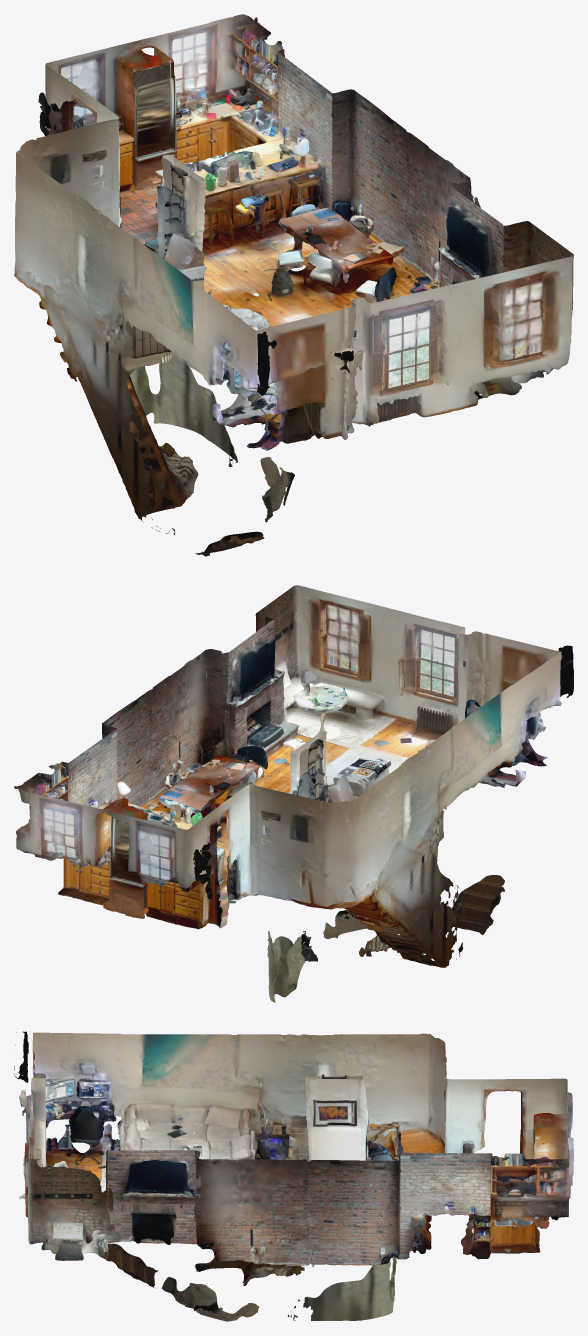
The model's file is room-realistic.glb.
3 views of the same model, one above another, from view 1: azimuth 30°, elevation 25°; view 2: azimuth 150°, elevation 25°; view 3: azimuth 270°, elevation 25° (orthographic). The views are drawn at different scales.
Visible parts, largest first — view 1: Interior__Material_4, Interior__Material_5, Interior__Material_6, Interior__Material_1, Interior__Material_3, Interior__Material_2, SouthWall__Material_1, LowerLevel__Material_5, EastWall__Material_4, LowerLevel__Material_6, WestWall__Material_4, WestWall__Material_6 (+18 smaller); view 2: Interior__Material_4, Interior__Material_5, Interior__Material_6, Interior__Material_1, Interior__Material_3, Interior__Material_2, WestWall__Material_4, SouthWall__Material_1, LowerLevel__Material_6, EastWall__Material_4, WestWall__Material_6, SouthWall__Material_4 (+21 smaller); view 3: Interior__Material_5, Interior__Material_4, Interior__Material_1, EastWall__Material_4, Interior__Material_6, WestWall__Material_4, Interior__Material_3, WestWall__Material_6, WestWall__Material_5, EastWall__Material_5, Interior__Material_2, LowerLevel__Material_5 (+14 smaller).
Boxes of the visible parts, x1=… form: Interior__Material_4: x1=14, y1=52, x2=562, y2=433; Interior__Material_5: x1=44, y1=30, x2=571, y2=440; Interior__Material_6: x1=26, y1=27, x2=521, y2=448; Interior__Material_1: x1=14, y1=40, x2=549, y2=450; Interior__Material_3: x1=15, y1=35, x2=554, y2=440; Interior__Material_2: x1=50, y1=53, x2=557, y2=444; SouthWall__Material_1: x1=273, y1=258, x2=563, y2=400; LowerLevel__Material_5: x1=47, y1=311, x2=263, y2=541; EastWall__Material_4: x1=245, y1=17, x2=565, y2=265; LowerLevel__Material_6: x1=61, y1=325, x2=294, y2=551; WestWall__Material_4: x1=15, y1=145, x2=181, y2=321; WestWall__Material_6: x1=16, y1=153, x2=273, y2=394; Interior__Material_4: x1=58, y1=631, x2=543, y2=910; Interior__Material_5: x1=36, y1=651, x2=486, y2=928; Interior__Material_6: x1=36, y1=633, x2=546, y2=928; Interior__Material_1: x1=43, y1=641, x2=547, y2=929; Interior__Material_3: x1=35, y1=650, x2=536, y2=918; Interior__Material_2: x1=59, y1=617, x2=540, y2=925; WestWall__Material_4: x1=336, y1=703, x2=532, y2=867; SouthWall__Material_1: x1=305, y1=587, x2=488, y2=699; LowerLevel__Material_6: x1=267, y1=876, x2=465, y2=1002; EastWall__Material_4: x1=14, y1=598, x2=290, y2=799; WestWall__Material_6: x1=354, y1=649, x2=561, y2=835; SouthWall__Material_4: x1=317, y1=604, x2=465, y2=675; Interior__Material_5: x1=28, y1=1076, x2=560, y2=1265; Interior__Material_4: x1=22, y1=1039, x2=540, y2=1262; Interior__Material_1: x1=19, y1=1057, x2=565, y2=1267; EastWall__Material_4: x1=37, y1=1155, x2=560, y2=1223; Interior__Material_6: x1=38, y1=1043, x2=559, y2=1259; WestWall__Material_4: x1=78, y1=1033, x2=440, y2=1101; Interior__Material_3: x1=41, y1=1074, x2=553, y2=1266; WestWall__Material_6: x1=32, y1=1032, x2=429, y2=1102; WestWall__Material_5: x1=46, y1=1033, x2=439, y2=1101; EastWall__Material_5: x1=28, y1=1154, x2=568, y2=1221; Interior__Material_2: x1=45, y1=1076, x2=537, y2=1259; LowerLevel__Material_5: x1=108, y1=1154, x2=394, y2=1320.
Size of the model in its own units: 5.96 by 4.94 by 10.8.
36 materials, 36 textured.
